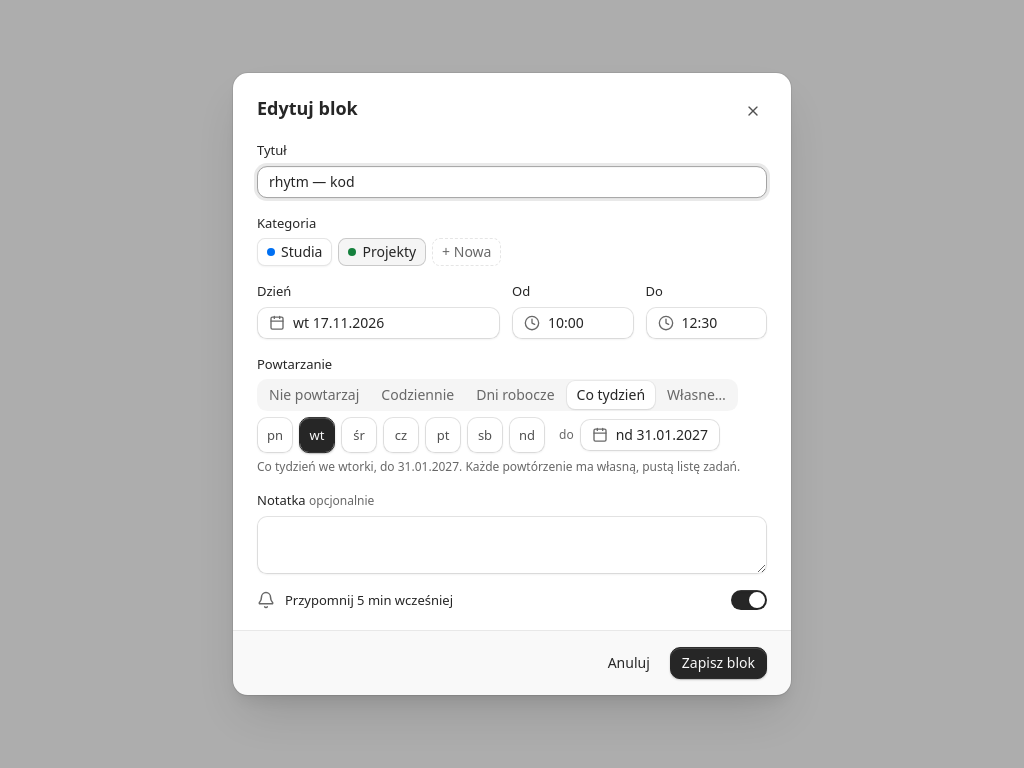
BlockDialog › zmiana dnia na pierwszym wystąpieniu zostawia „To i następne” dostępne
The image size is (1024, 768).
Click the button with aria-label "Dzień": (378, 323) [257,307,500,339]
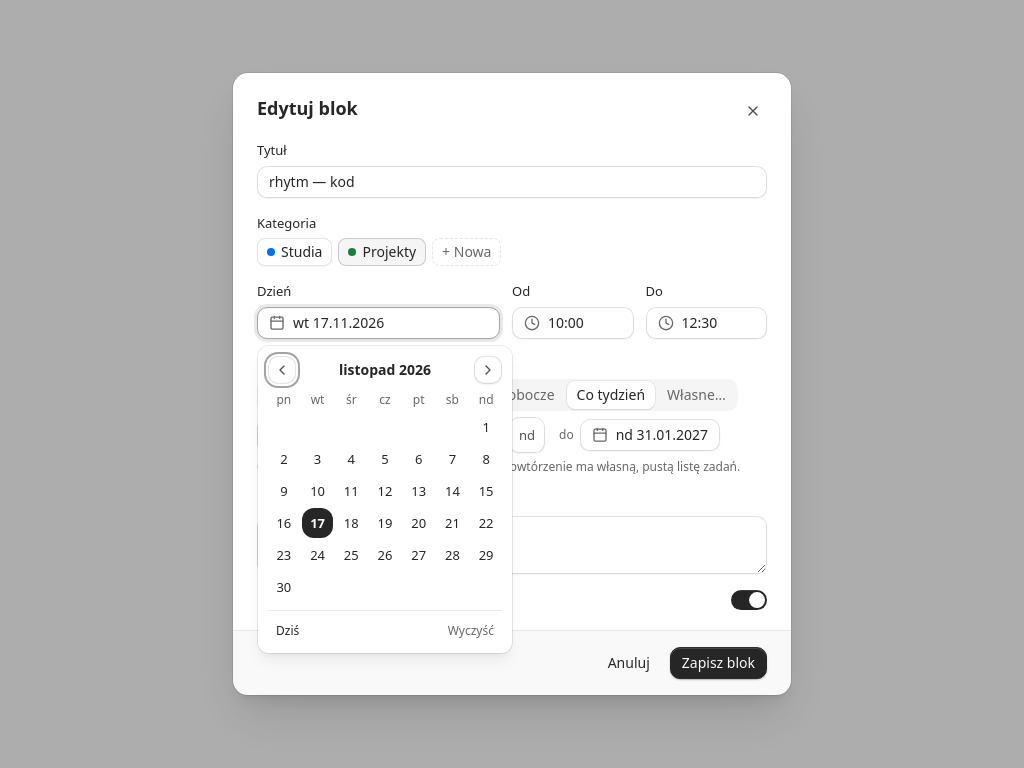
Click the button "18": (351, 523) [335,508,367,538]
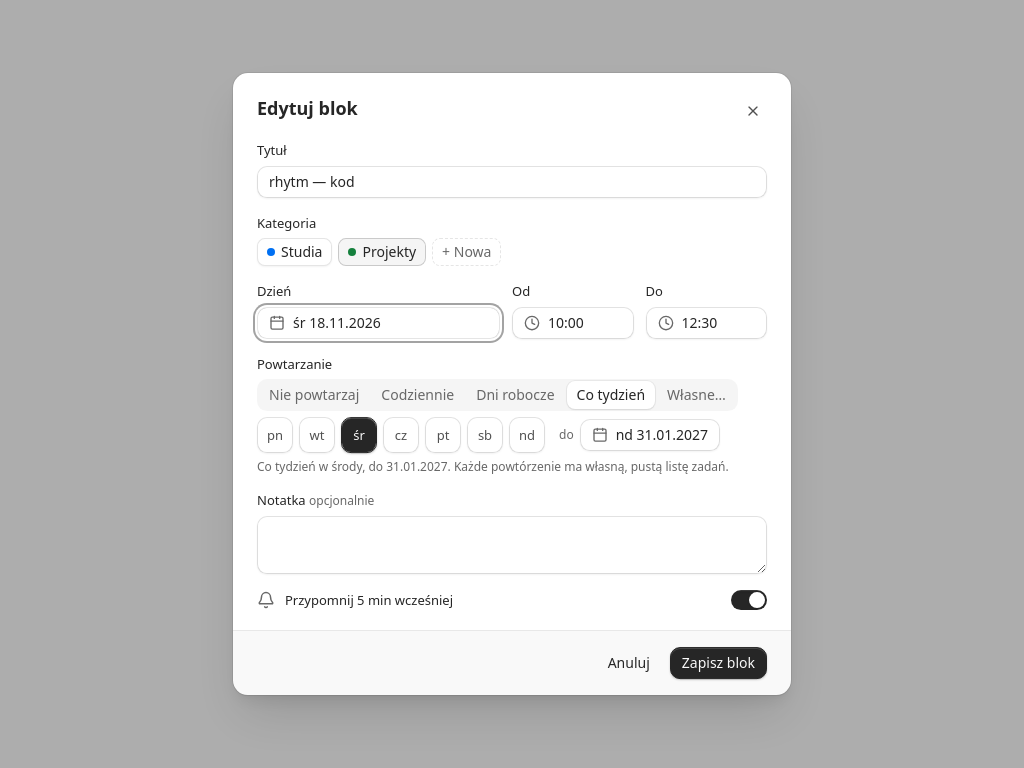
Click the button "Zapisz blok": (718, 663) [670,647,767,679]
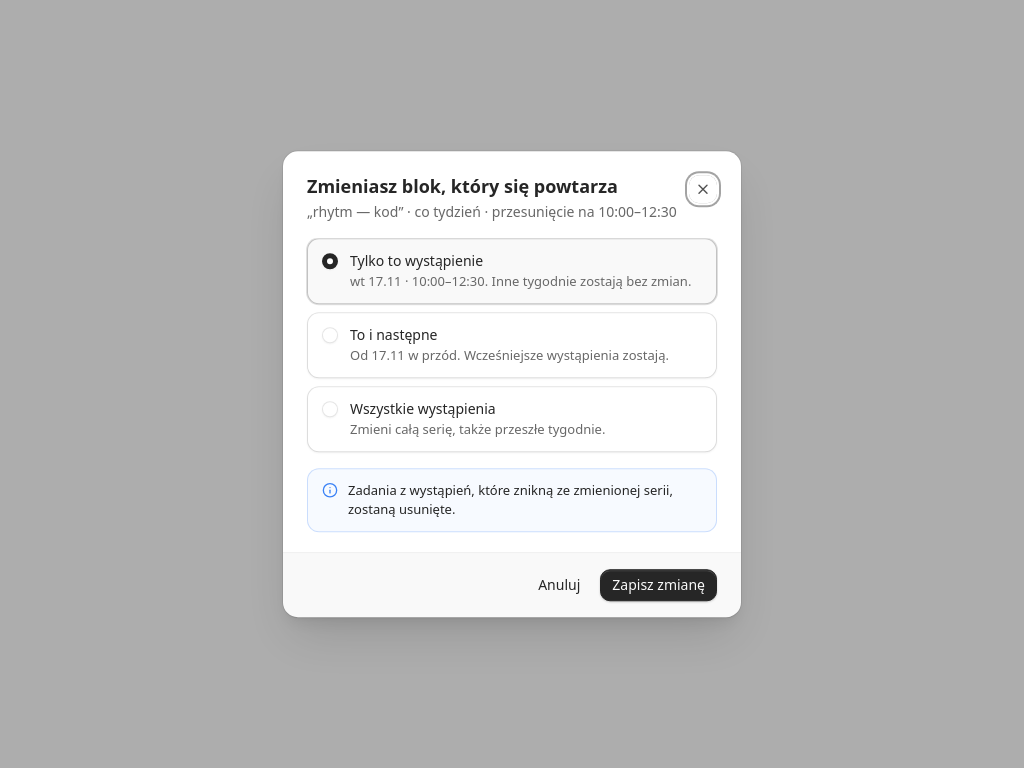
Now the radio button labelled "To i następne" is enabled, box [322,328,338,344]
